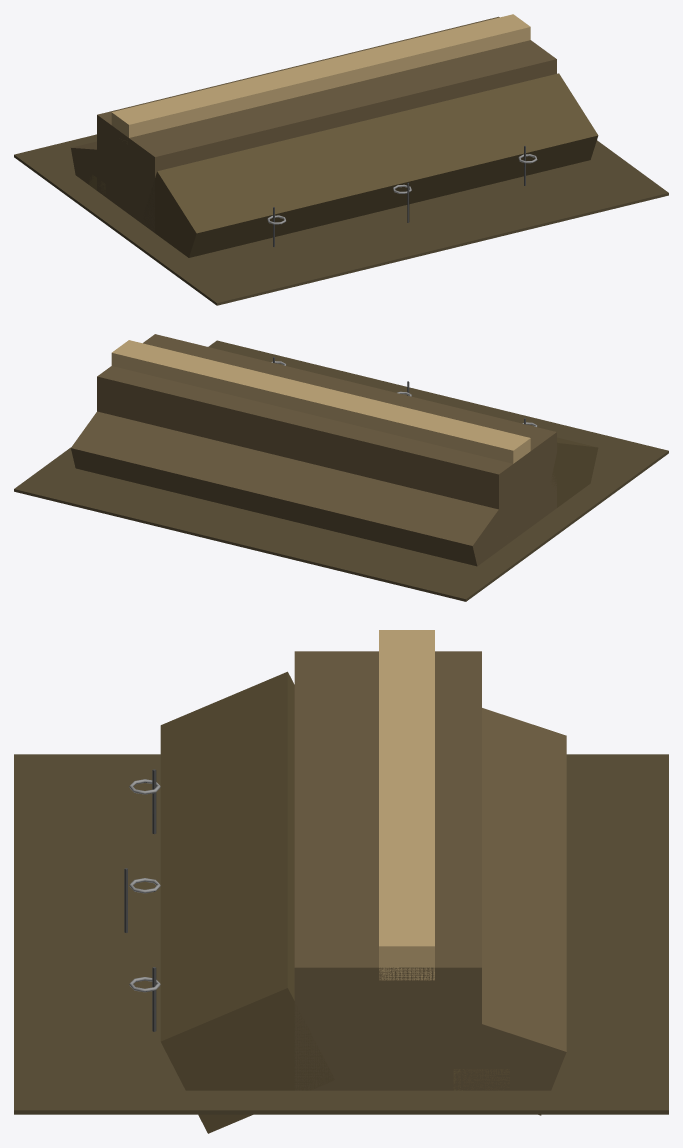
Rendered from perimeter-berm.glb.
3 renders of one model, top to bottom at view 1: azimuth 30°, elevation 25°; view 2: azimuth 150°, elevation 25°; view 3: azimuth 270°, elevation 25°, orthographic. The views are drawn at different scales.
Visible parts, largest first — view 1: Mesh_BermSlopeFront, Mesh_GroundPatch, Mesh_BermCore, Mesh_SandbagTop, Mesh_BermSlopeBack; view 2: Mesh_BermCore, Mesh_GroundPatch, Mesh_BermSlopeBack, Mesh_SandbagTop, Mesh_BermSlopeFront; view 3: Mesh_GroundPatch, Mesh_BermCore, Mesh_BermSlopeFront, Mesh_BermSlopeBack, Mesh_SandbagTop.
Boxes of the visible parts, box(x1,y1,x2,y2) form: Mesh_BermSlopeFront: box(144, 73, 598, 257); Mesh_GroundPatch: box(14, 134, 668, 305); Mesh_BermCore: box(97, 16, 556, 232); Mesh_SandbagTop: box(111, 14, 530, 137); Mesh_BermSlopeBack: box(71, 141, 96, 184); Mesh_BermCore: box(97, 334, 556, 550); Mesh_GroundPatch: box(14, 340, 668, 601); Mesh_BermSlopeBack: box(71, 411, 507, 566); Mesh_SandbagTop: box(111, 340, 530, 463); Mesh_BermSlopeFront: box(550, 437, 598, 507); Mesh_GroundPatch: box(14, 754, 668, 1114); Mesh_BermCore: box(294, 651, 481, 1090); Mesh_BermSlopeFront: box(160, 671, 334, 1133); Mesh_BermSlopeBack: box(453, 708, 566, 1115); Mesh_SandbagTop: box(379, 630, 434, 980).
Size of the model in its own units: 9 by 2.21 by 7.
